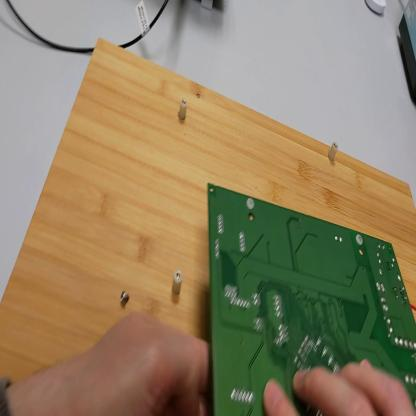hand: (42, 307, 210, 416), (261, 357, 416, 414)
low voltage board: (204, 185, 416, 415)
oscilloscope: (197, 2, 223, 10)
welder station: (398, 1, 416, 106)
working area: (3, 41, 415, 411)
